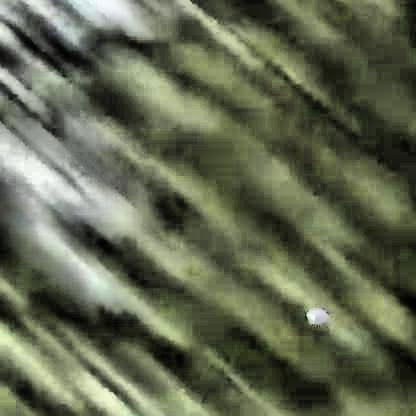golfball: (300, 309, 328, 328)
